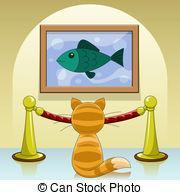cat: (57, 96, 132, 177)
